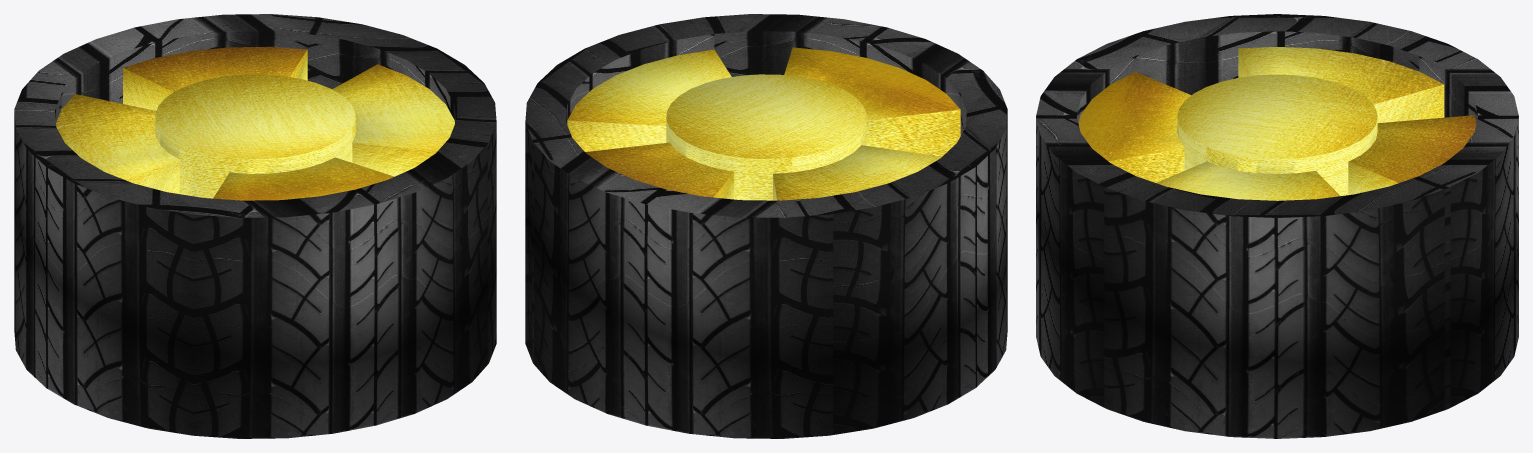
Rendered from Pneu2.fbx.
3 views of the same model, side by side, from view 1: azimuth 30°, elevation 25°; view 2: azimuth 150°, elevation 25°; view 3: azimuth 270°, elevation 25° (orthographic).
Parts seen in each view (by area): view 1: pneu frontal 1; view 2: pneu frontal 1; view 3: pneu frontal 1.
Boxes of the visible parts, <box> form: pneu frontal 1: <box>14,14,496,438</box>; pneu frontal 1: <box>525,14,1007,438</box>; pneu frontal 1: <box>1036,14,1518,438</box>.
Size of the model in its own units: 106 by 53.64 by 106.
3 materials, 2 textured.
